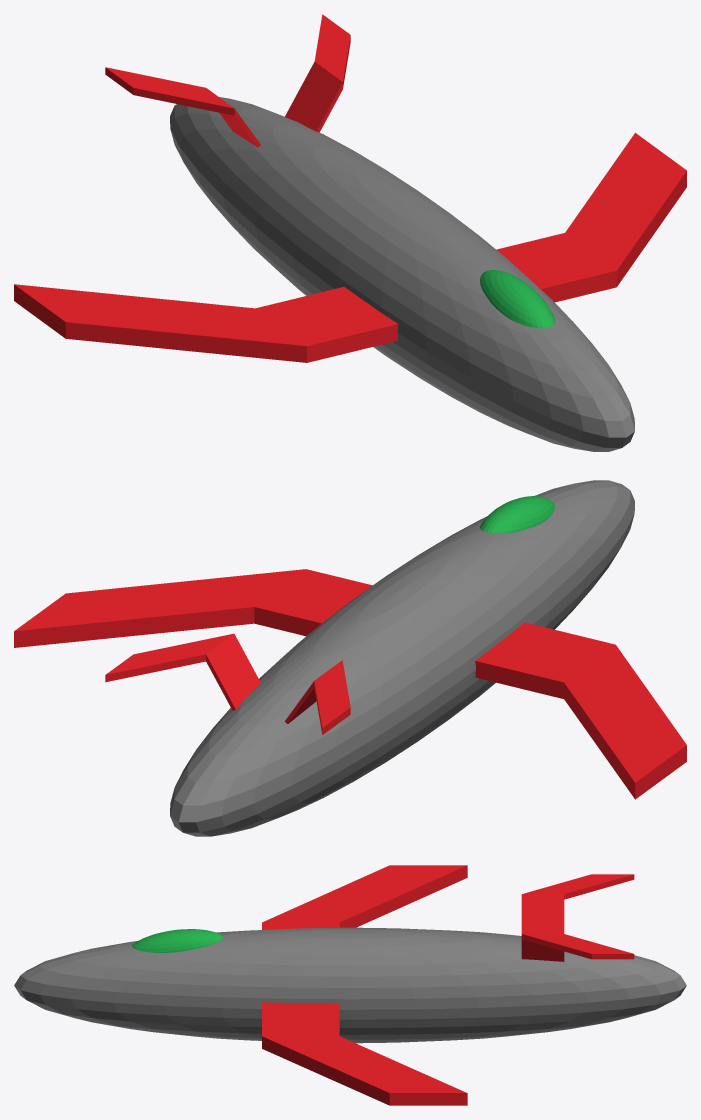
File: normal.obj
3 views of the same model, one above another, from view 1: azimuth 30°, elevation 25°; view 2: azimuth 150°, elevation 25°; view 3: azimuth 270°, elevation 25° (orthographic). The views are drawn at different scales.
Parts seen in each view (by area): view 1: 球, 立方体, 立方体.001, 球.001; view 2: 球, 立方体, 立方体.001, 球.001; view 3: 球, 立方体, 立方体.001, 球.001.
Boxes of the visible parts, left/top/right/bottom form: 球: left=170, top=97, right=634, bottom=451; 立方体: left=14, top=132, right=686, bottom=362; 立方体.001: left=105, top=14, right=350, bottom=147; 球.001: left=480, top=270, right=554, bottom=328; 球: left=170, top=480, right=634, bottom=836; 立方体: left=14, top=569, right=686, bottom=799; 立方体.001: left=105, top=633, right=350, bottom=734; 球.001: left=480, top=496, right=554, bottom=533; 球: left=14, top=927, right=686, bottom=1043; 立方体: left=262, top=865, right=467, bottom=1105; 立方体.001: left=521, top=874, right=634, bottom=961; 球.001: left=132, top=929, right=223, bottom=952.
Size of the model in its own units: 9.33 by 2.36 by 11.64.
3 materials, 3 textured.
